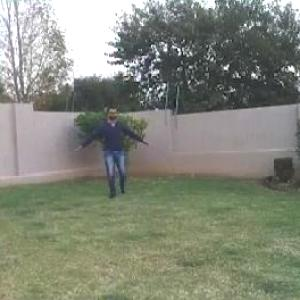land: (65, 78, 150, 215)
